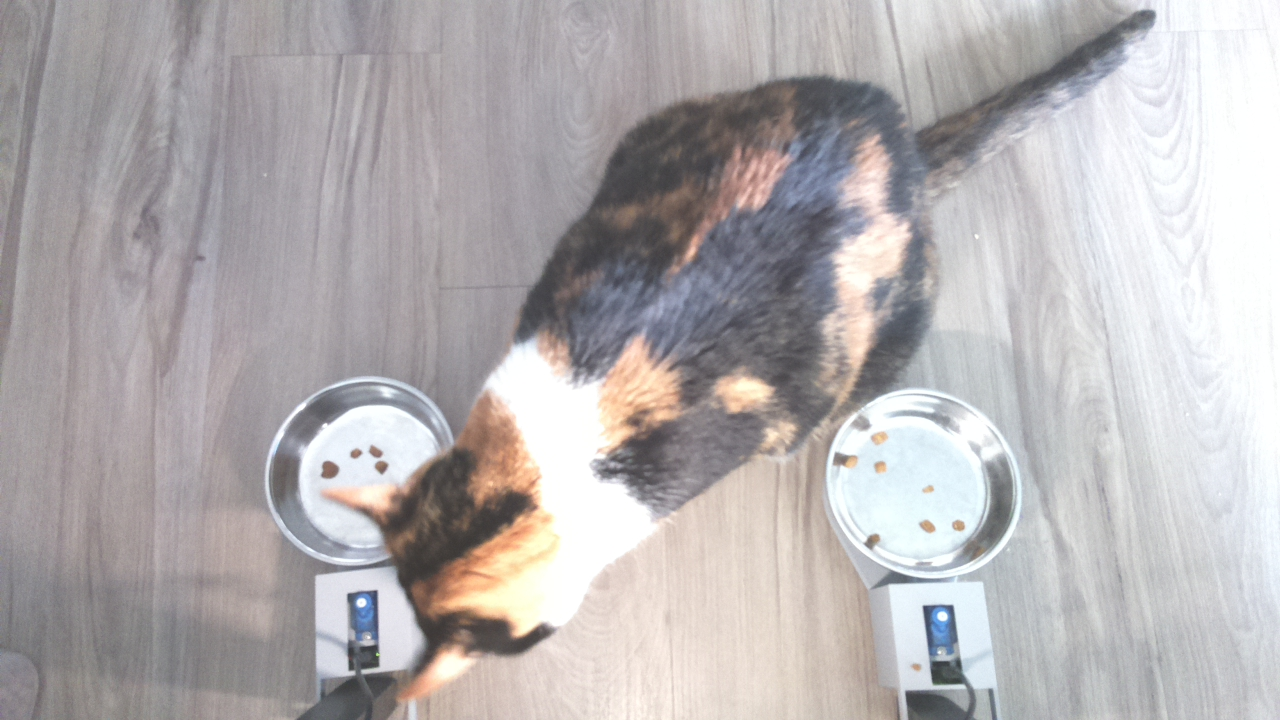bella: (351, 412, 630, 694)
open_bowl: (821, 383, 1026, 586), (262, 370, 430, 572)
